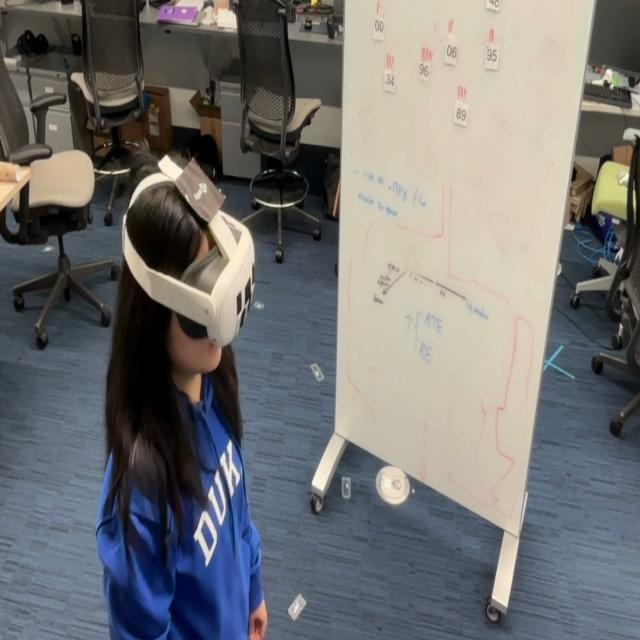Headset: (120, 156, 256, 348)
UnityLogo: (172, 152, 226, 225)
